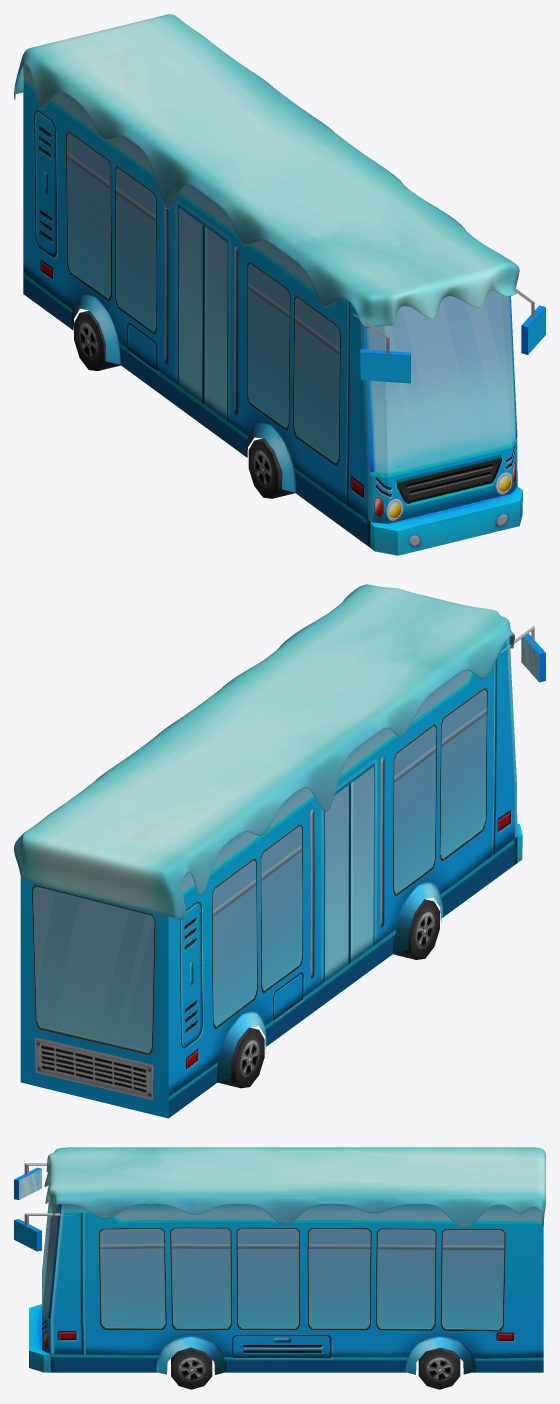
Rendered from bus_01.fbx.
3 views of the same model, one above another, from view 1: azimuth 30°, elevation 25°; view 2: azimuth 150°, elevation 25°; view 3: azimuth 270°, elevation 25° (orthographic). The views are drawn at different scales.
Visible parts, largest first — view 1: Bus_01, Plane; view 2: Bus_01, Plane; view 3: Bus_01, Plane.
Boxes of the visible parts, box(x1,y1,x2,y2) form: Bus_01: box(23, 64, 545, 555); Plane: box(14, 14, 519, 327); Bus_01: box(20, 625, 545, 1118); Plane: box(14, 584, 514, 919); Bus_01: box(14, 1163, 543, 1389); Plane: box(44, 1147, 545, 1228).
Size of the model in its own units: 566 by 779 by 1979.
